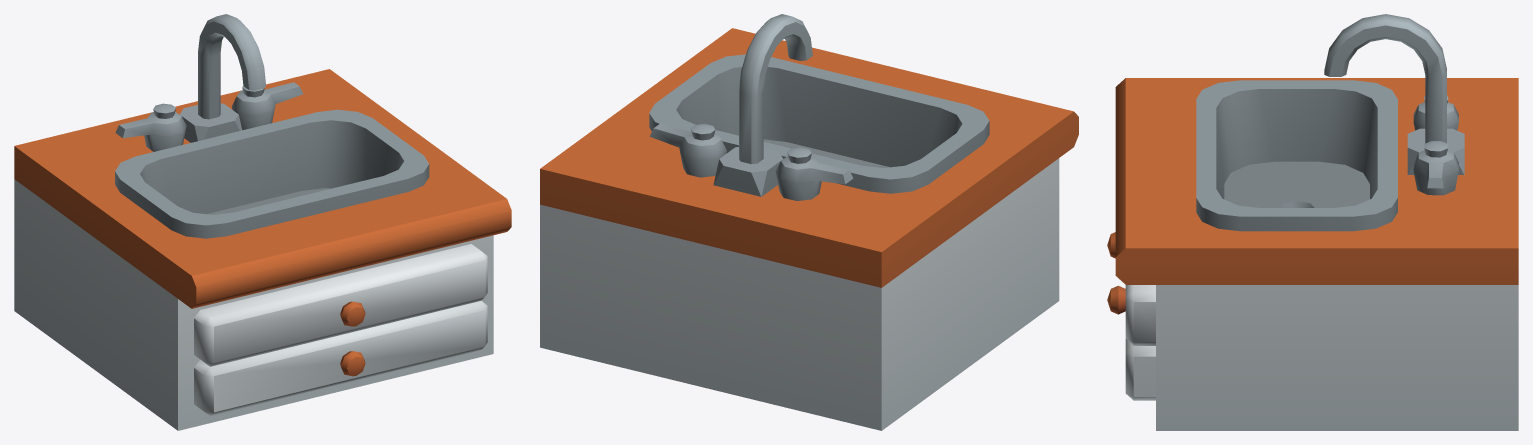
File: kitchencounter_sink.glb
The picture shows the model from 3 angles, left to right: view 1: azimuth 30°, elevation 25°; view 2: azimuth 150°, elevation 25°; view 3: azimuth 270°, elevation 25°; orthographic projection. The views are drawn at different scales.
Parts seen in each view (by area): view 1: kitchencounter_sink; view 2: kitchencounter_sink; view 3: kitchencounter_sink.
Part boxes in pixels (x1,y1,x2,y2): kitchencounter_sink: (14,14,511,430); kitchencounter_sink: (540,14,1078,430); kitchencounter_sink: (1107,14,1518,430).
Bounding box in the file's own units: 2 × 1.8 × 2.04.
Materials: 1 (1 with a texture image).
